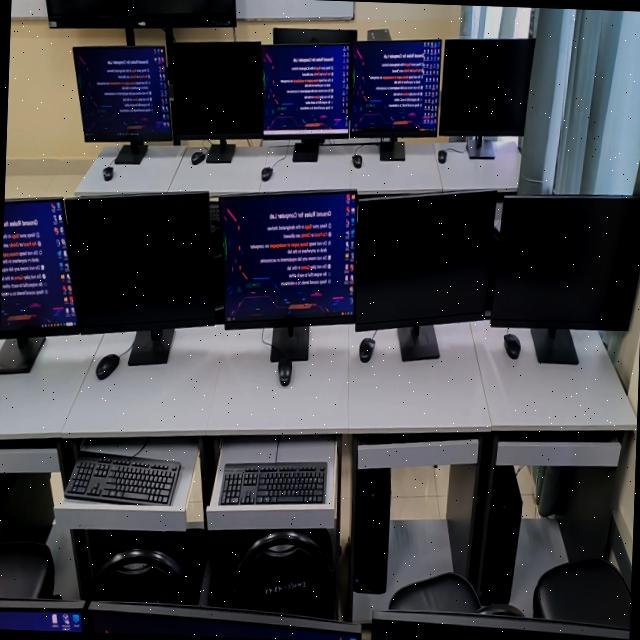Chair: (231, 531, 334, 618), (533, 558, 631, 627), (87, 548, 195, 604), (389, 572, 523, 616), (0, 542, 53, 598)
Cpu: (481, 466, 522, 603), (353, 468, 390, 593), (0, 473, 54, 542)
Digital board: (45, 0, 236, 43)
Keyboard: (64, 453, 180, 504), (220, 462, 325, 503)
Monitor: (65, 192, 216, 333), (490, 195, 640, 329), (355, 191, 498, 330), (219, 191, 357, 325), (0, 198, 79, 336), (87, 603, 359, 640), (73, 46, 172, 143), (167, 42, 263, 139), (439, 39, 535, 135), (350, 39, 441, 137), (262, 43, 350, 138), (371, 610, 629, 640), (0, 610, 82, 632), (273, 27, 357, 44)
Mouse: (96, 354, 119, 379), (504, 333, 520, 358), (278, 357, 291, 386), (359, 337, 374, 362), (261, 166, 273, 181), (191, 152, 205, 164), (352, 153, 362, 168), (103, 165, 113, 180), (438, 149, 447, 162)
